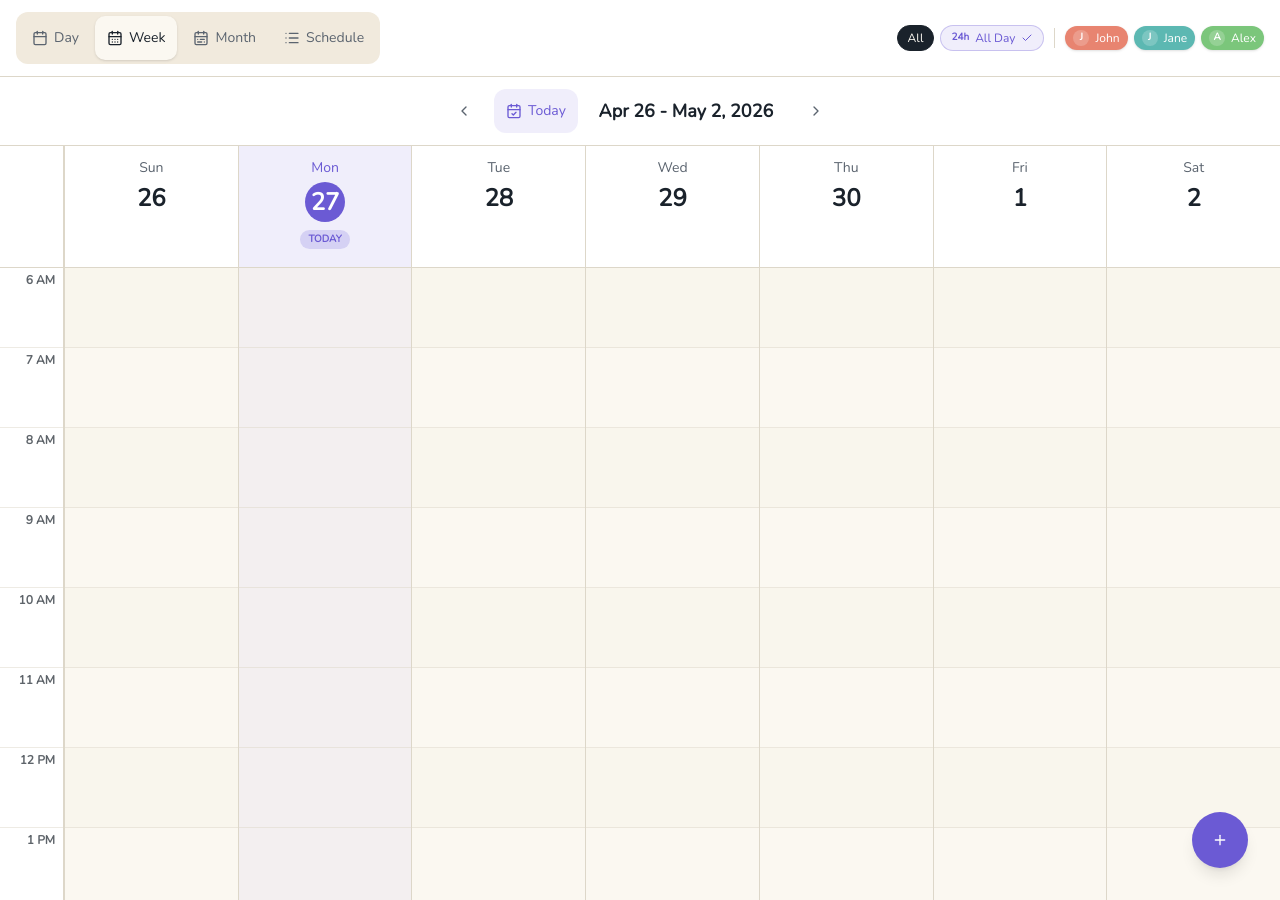
Scenario: CalendarModule › Add Event Flow › opens add event modal when FAB clicked
Click the button named "add event".
click(1220, 840)  # box [1192,812,1248,868]
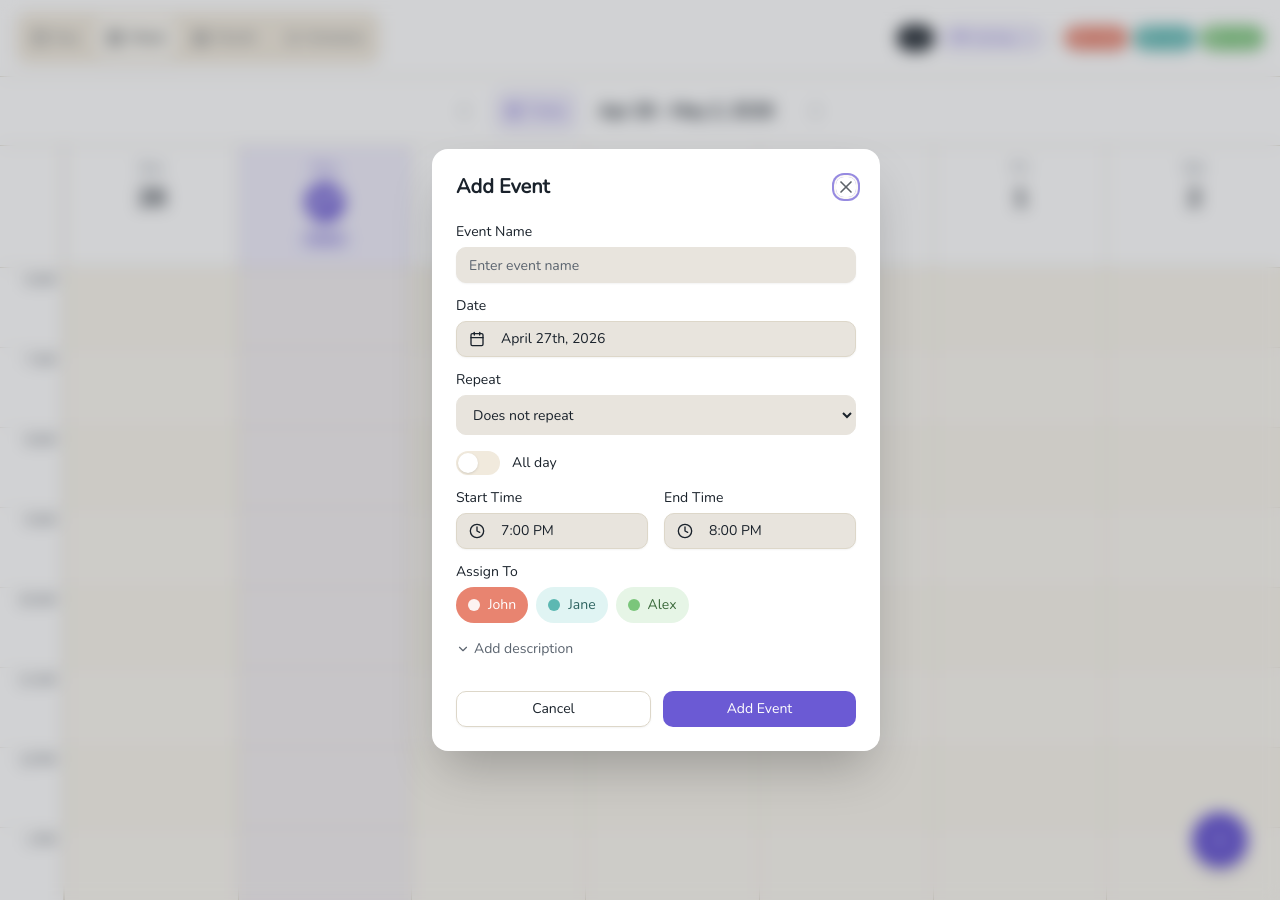
Now the dialog is shown, box [432,149,880,751]
Now the heading "Add Event" is shown, box [456,173,550,201]
